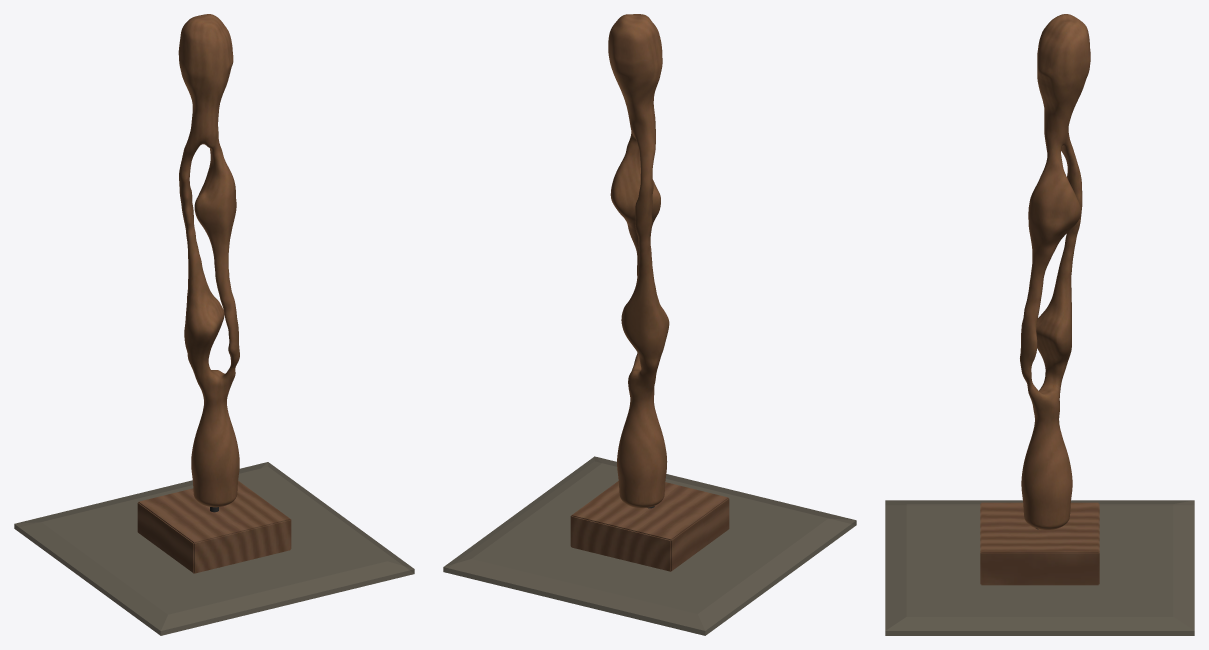
Rendered from karya-04.glb.
3 views of the same model, side by side, from view 1: azimuth 30°, elevation 25°; view 2: azimuth 150°, elevation 25°; view 3: azimuth 270°, elevation 25° (orthographic). The views are drawn at different scales.
Parts seen in each view (by area): view 1: K04_Glass, K04_Wood, K04_Block; view 2: K04_Glass, K04_Wood, K04_Block; view 3: K04_Glass, K04_Wood, K04_Block.
Boxes of the visible parts, <box> form: K04_Glass: <box>14,462,414,635</box>; K04_Wood: <box>178,14,239,507</box>; K04_Block: <box>137,481,291,573</box>; K04_Glass: <box>443,456,856,635</box>; K04_Wood: <box>608,14,669,508</box>; K04_Block: <box>570,481,729,571</box>; K04_Glass: <box>885,500,1194,635</box>; K04_Wood: <box>1020,14,1090,529</box>; K04_Block: <box>980,502,1099,585</box>.
Bounding box in the file's own units: 0.22 × 0.4346 × 0.22.
Materials: 4 (2 with a texture image).
